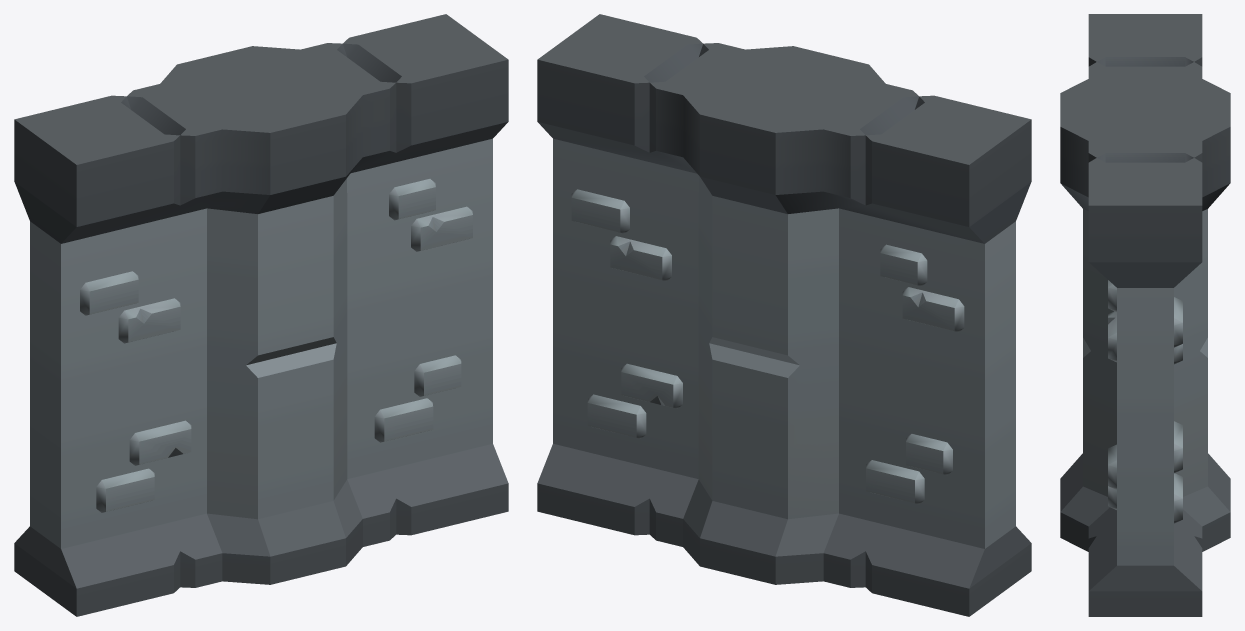
File: kcas_wall_pillar.glb
3 renders of one model, left to right at view 1: azimuth 30°, elevation 25°; view 2: azimuth 150°, elevation 25°; view 3: azimuth 270°, elevation 25°, orthographic. The views are drawn at different scales.
Visible parts, largest first — view 1: wall_pillar; view 2: wall_pillar; view 3: wall_pillar.
Boxes of the visible parts, bbox=[...] form: wall_pillar: bbox=[14, 14, 508, 616]; wall_pillar: bbox=[537, 14, 1031, 616]; wall_pillar: bbox=[1060, 14, 1230, 616].
Size of the model in its own units: 4 by 4 by 1.5.
1 material, 1 textured.
